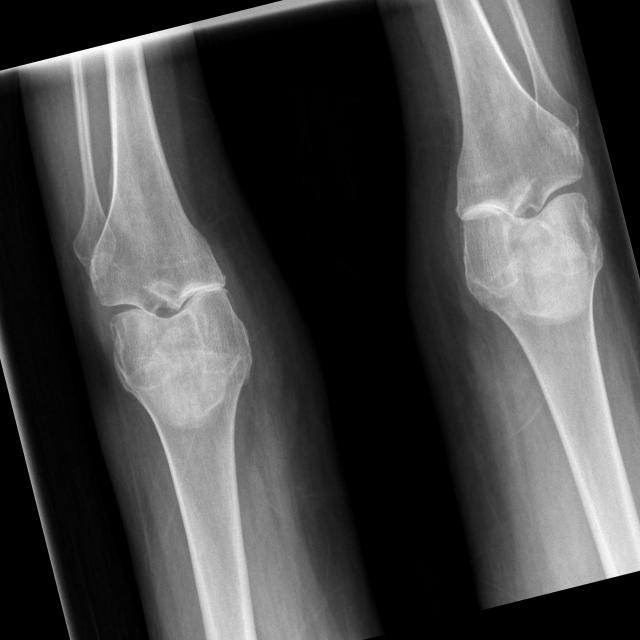Knee: (430, 124, 608, 286), (78, 219, 248, 379)
